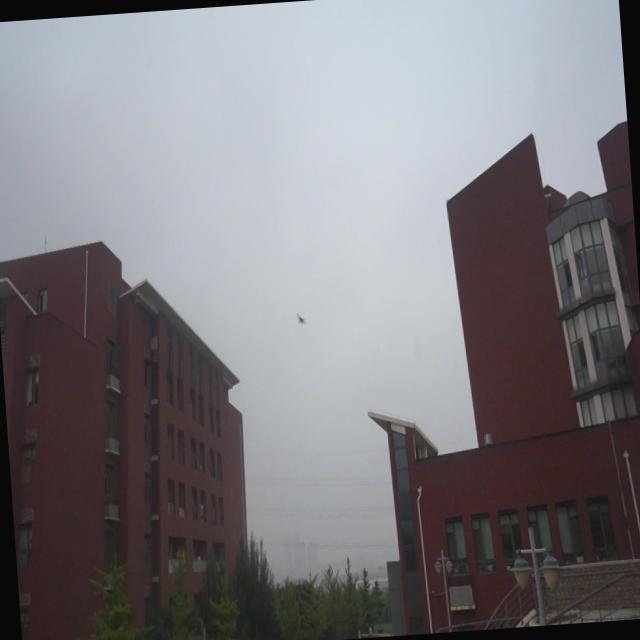drone: (294, 310, 308, 330)
